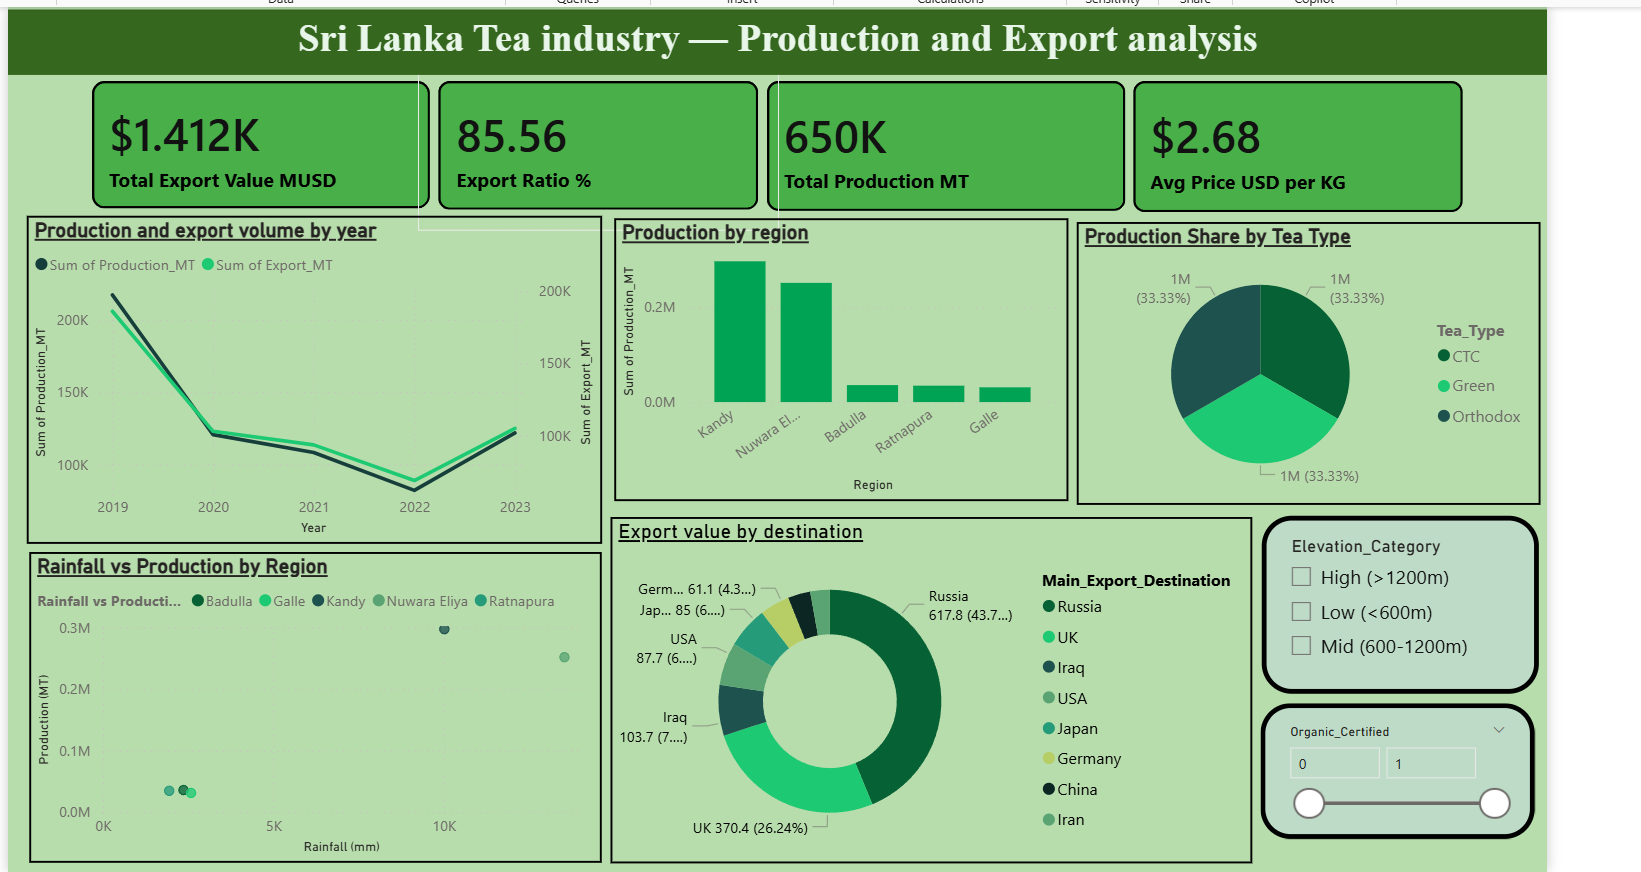

What the dashboard file says about the page in this screenshot:
{"tool":"powerbi","page":{"name":"EXECUTIVE DASHBOARD","canvas":[1280,720],"ordinal":0},"visuals":[{"type":"cardVisual","fields":{"Data":["Annual_Summary.Total Export Value MUSD"]},"box":[52.7,45.2,315.7,140.5],"z":0},{"type":"cardVisual","fields":{"Data":["Annual_Summary.Total Production MT"]},"box":[613.9,44.8,332.2,142.4],"z":1000},{"type":"cardVisual","fields":{"Data":["Annual_Summary.Avg Price USD per KG"]},"box":[918.8,44.8,308.5,143.6],"z":2000},{"type":"cardVisual","fields":{"Data":["Annual_Summary.Export Ratio %"]},"box":[341.1,44.8,300.2,141.2],"z":3000},{"type":"lineChart","title":"Production and export volume by year","fields":{"Category":["Annual_Summary.Year"],"Y":["Sum(Tea_Production_Data.Production_MT)"],"Y2":["Sum(Tea_Production_Data.Export_MT)"]},"box":[15.8,173.7,478.3,273.1],"z":4000},{"type":"clusteredColumnChart","title":"Production by region","fields":{"Category":["Tea_Production_Data.Region"],"Y":["Sum(Tea_Production_Data.Production_MT)"]},"box":[503.6,175.2,377.3,235.2],"z":5000},{"type":"donutChart","title":"Export value by destination","fields":{"Category":["Tea_Production_Data.Main_Export_Destination"],"Y":["Sum(Tea_Production_Data.Export_Value_MUSD)"]},"box":[500.7,423.6,533.9,288.3],"z":6000},{"type":"scatterChart","title":"Rainfall vs Production by Region","fields":{"X":["Sum(Tea_Production_Data.Rainfall_mm)"],"Y":["Sum(Tea_Production_Data.Production_MT)"],"Series":["Tea_Production_Data.Region"],"Category":["Tea_Production_Data.Region"]},"box":[17.8,453.2,475.8,258.7],"z":7000},{"type":"slicer","fields":{"Values":["Tea_Production_Data.Elevation_Category"]},"box":[1041.9,423.1,230.5,148.4],"z":8000},{"type":"slicer","fields":{"Values":["Tea_Production_Data.Organic_Certified"]},"box":[1041.8,579,227.8,112.7],"z":9000},{"type":"textbox","box":[0,1.6,1280.3,54.1],"z":10000},{"type":"pieChart","title":"Production Share by Tea Type","fields":{"Category":["Tea_Production_Data.Tea_Type"],"Y":["Sum(Annual_Summary.Total_Production_MT)"]},"box":[888.7,179.2,385.6,234.9],"z":11000}]}

Visuals, with their boxes in screenshot pixels (x1, y1, x2, y2):
cardVisual - Annual_Summary.Total Export Value MUSD: box=[71, 58, 448, 226]
cardVisual - Annual_Summary.Total Production MT: box=[742, 58, 1138, 228]
cardVisual - Annual_Summary.Avg Price USD per KG: box=[1106, 58, 1474, 229]
cardVisual - Annual_Summary.Export Ratio %: box=[416, 58, 774, 226]
"Production and export volume by year" lineChart: box=[27, 212, 599, 538]
"Production by region" clusteredColumnChart: box=[610, 213, 1060, 494]
"Export value by destination" donutChart: box=[606, 510, 1244, 854]
"Rainfall vs Production by Region" scatterChart: box=[30, 545, 598, 854]
slicer - Tea_Production_Data.Elevation_Category: box=[1253, 509, 1528, 687]
slicer - Tea_Production_Data.Organic_Certified: box=[1253, 696, 1525, 830]
textbox: box=[9, 6, 1537, 71]
"Production Share by Tea Type" pieChart: box=[1070, 218, 1530, 499]
